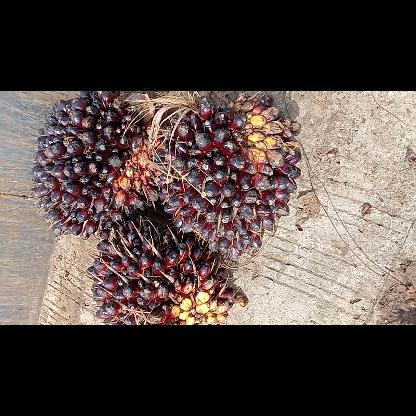TBS mentah: (153, 90, 305, 258), (26, 91, 164, 242), (83, 216, 246, 324)
